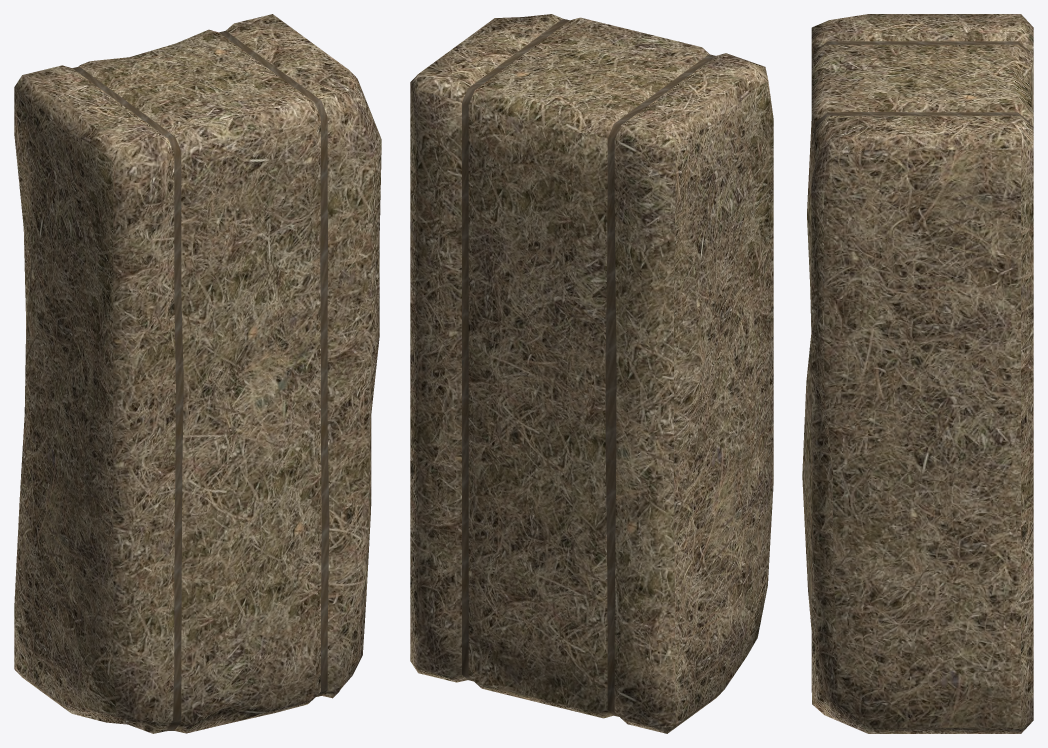
The model's file is square.gltf.
3 renders of one model, left to right at view 1: azimuth 30°, elevation 25°; view 2: azimuth 150°, elevation 25°; view 3: azimuth 270°, elevation 25°, orthographic.
Visible parts, largest first — view 1: square; view 2: square; view 3: square.
Boxes of the visible parts, x1=… form: square: x1=14, y1=14, x2=381, y2=733; square: x1=410, y1=14, x2=773, y2=733; square: x1=802, y1=14, x2=1033, y2=733.
Size of the model in its own units: 0.4591 by 0.9553 by 0.3298.
1 material, 1 textured.
